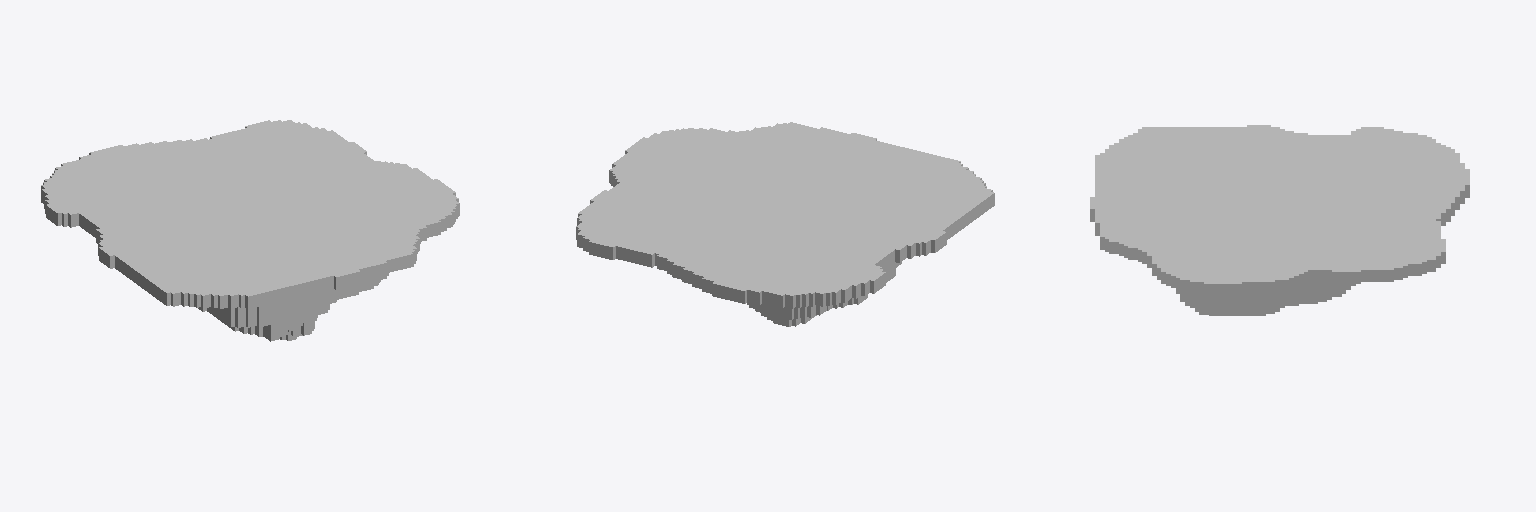
File: chao.obj
3 renders of one model, left to right at view 1: azimuth 30°, elevation 25°; view 2: azimuth 150°, elevation 25°; view 3: azimuth 270°, elevation 25°, orthographic.
Visible parts, largest first — view 1: object 1; view 2: object 1; view 3: object 1.
Boxes of the visible parts, box(x1,y1,x2,y2) form: object 1: box(41, 120, 459, 341); object 1: box(576, 122, 994, 326); object 1: box(1090, 125, 1469, 315).
Size of the model in its own units: 15.8 by 4.8 by 16.